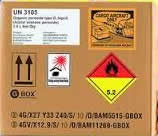OrganicPeroxide: (85, 53, 138, 105)
